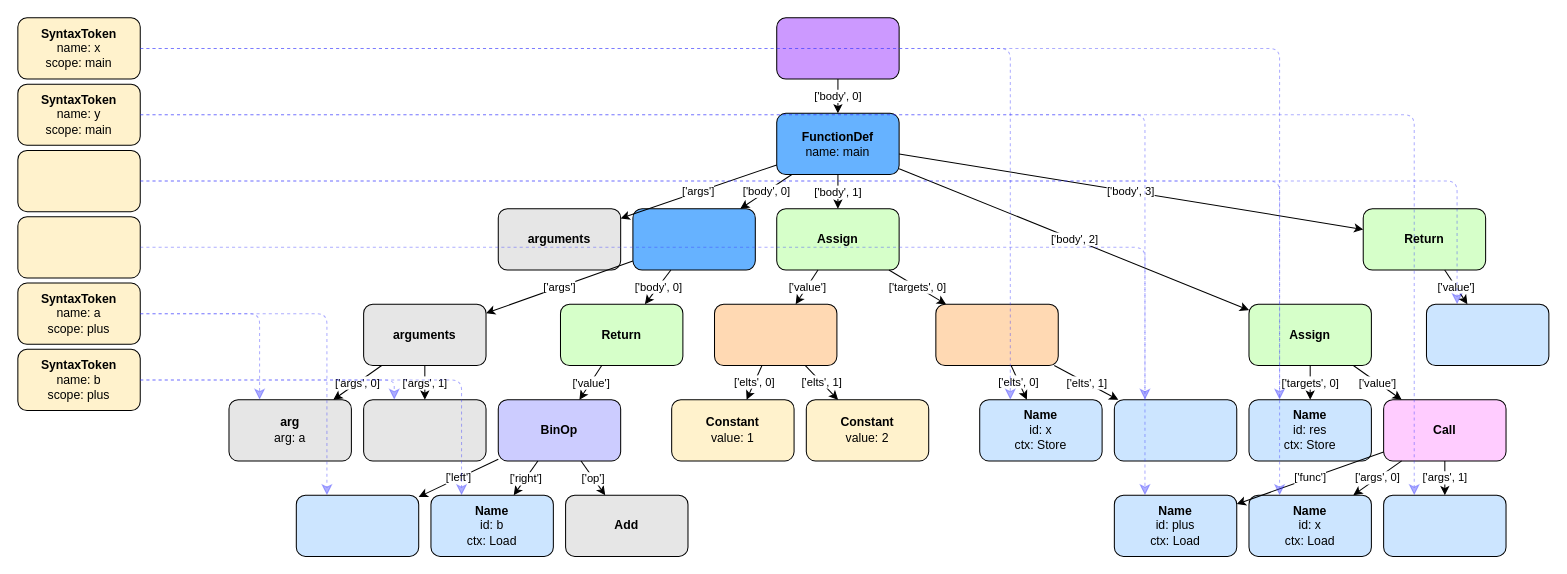
Some shapes in this 1567 by 574 pixel diagram are drawn without their labels. Here are the shapes that lost their labels. From the top down, the centre of each, then its label:
At pixel 837 48: "Module".
At pixel 78 180: "SyntaxToken name: res scope: main".
At pixel 78 247: "SyntaxToken name: plus scope: main".
At pixel 693 239: "FunctionDef name: plus".
At pixel 775 334: "Tuple ctx: Load".
At pixel 996 334: "Tuple ctx: Store".
At pixel 1487 334: "Name id: res ctx: Load".
At pixel 424 430: "arg arg: b".
At pixel 1175 430: "Name id: y ctx: Store".
At pixel 357 525: "Name id: a ctx: Load".
At pixel 1444 525: "Name id: y ctx: Load".
